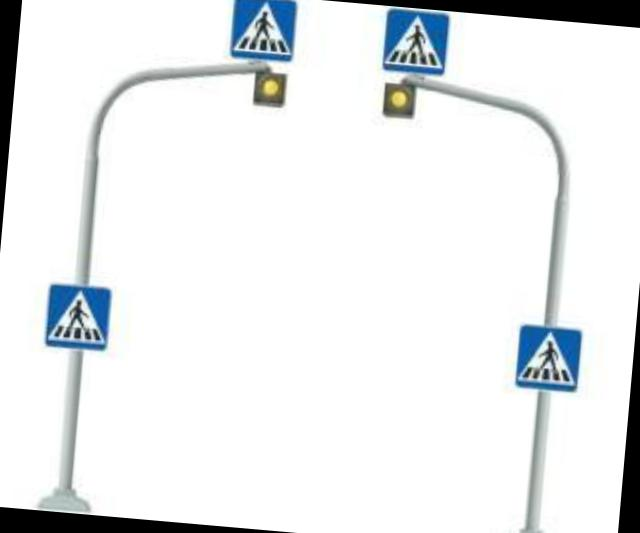crosswalk-sign: (42, 280, 114, 352), (382, 6, 453, 76), (514, 322, 584, 393), (228, 1, 299, 62)
